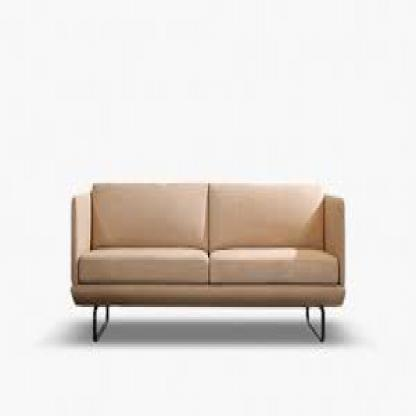sofa: (70, 178, 346, 342)
